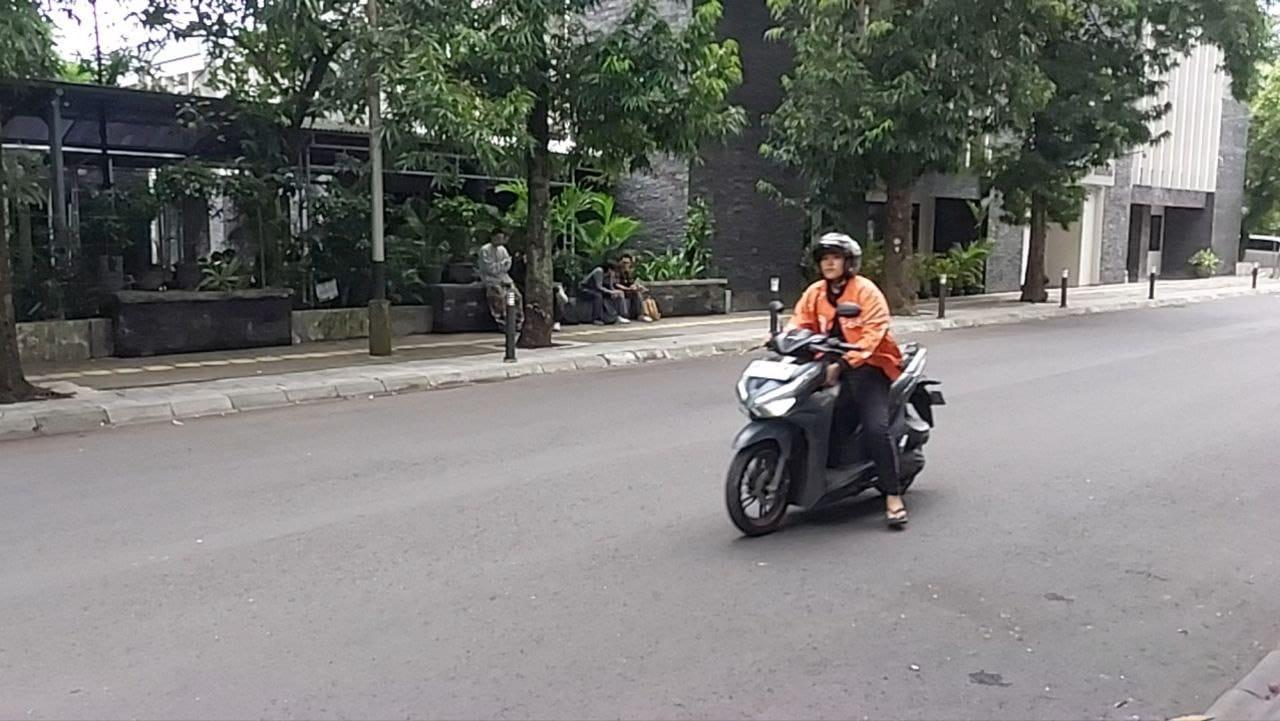helm: (811, 231, 864, 282)
riding: (724, 230, 948, 537)
